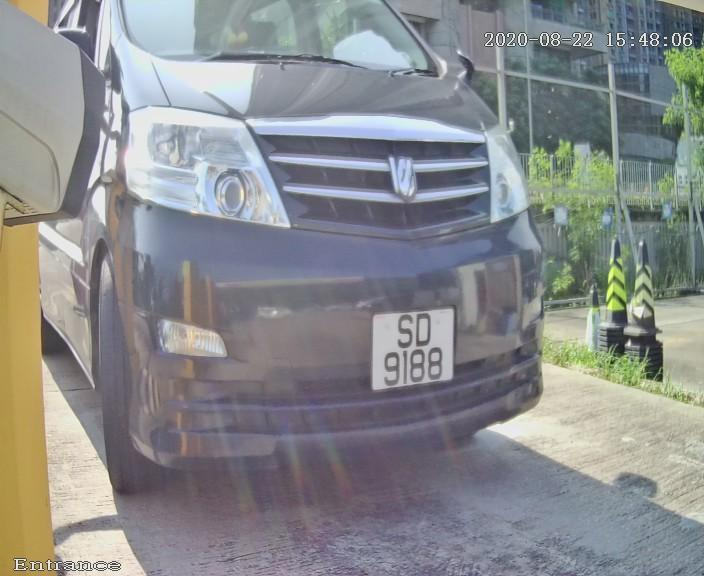Car: (38, 6, 579, 525)
License Plate: (365, 291, 463, 404)
